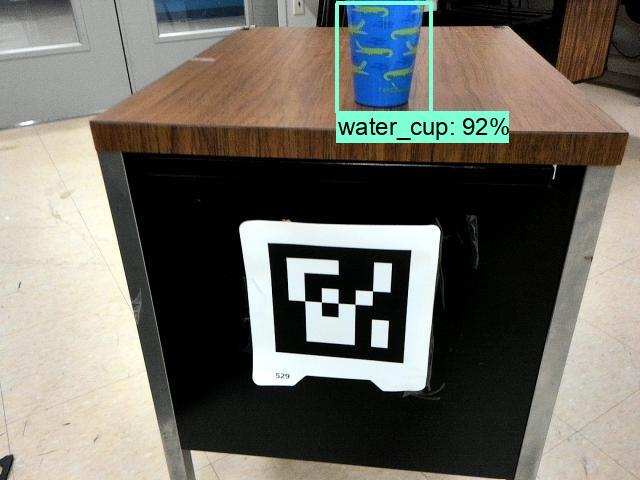water_cup: (339, 1, 424, 111)
